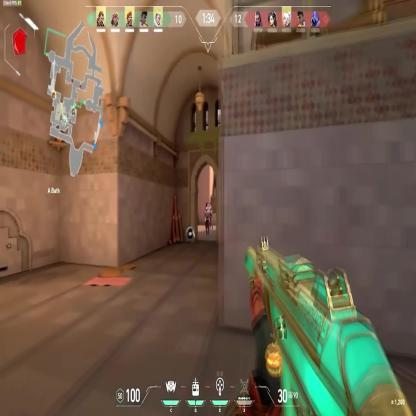enemy: (204, 204, 210, 235), (208, 204, 214, 230)
enemy_head: (206, 204, 209, 209), (209, 205, 212, 210)
